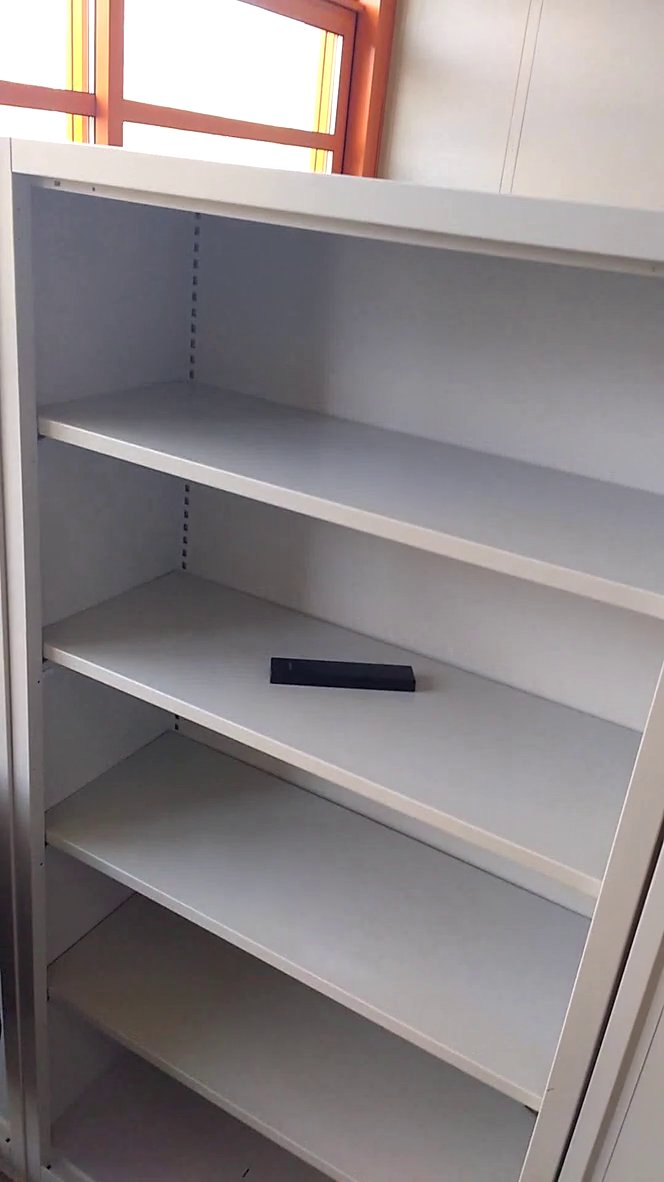remote: (262, 648, 442, 707)
